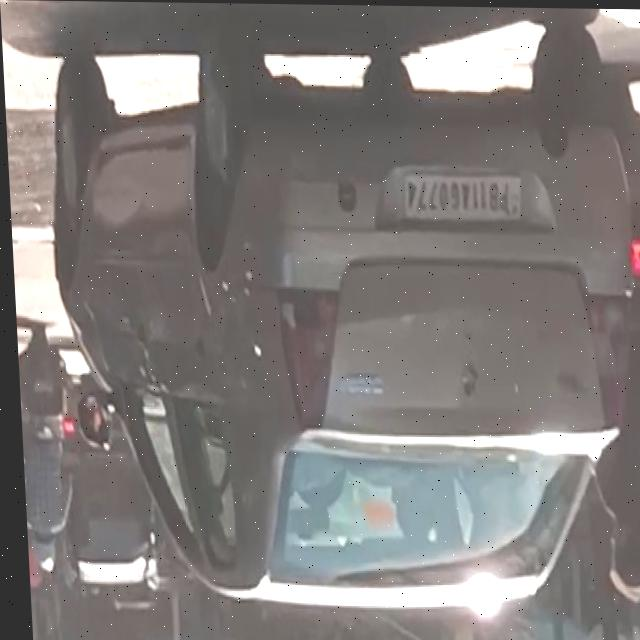plate: (397, 166, 523, 225)
